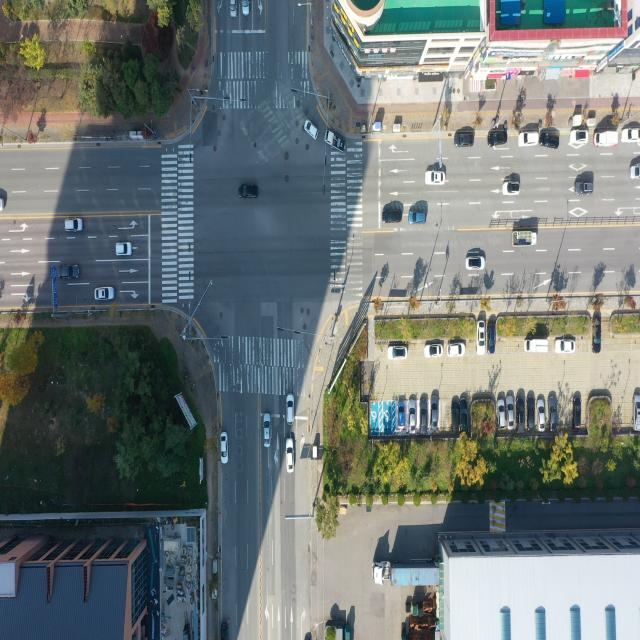car: (239, 182, 259, 200), (220, 431, 230, 466), (539, 130, 558, 148), (488, 131, 508, 148), (59, 266, 80, 282), (425, 170, 446, 186), (430, 396, 439, 433), (419, 397, 428, 434), (549, 397, 558, 432), (592, 314, 601, 349), (478, 320, 487, 354), (519, 132, 539, 147), (305, 121, 320, 141), (387, 346, 407, 361), (459, 400, 468, 433), (570, 130, 588, 146), (424, 344, 443, 359), (554, 340, 574, 354), (264, 414, 272, 448), (286, 439, 294, 473), (516, 398, 524, 432), (66, 217, 84, 232), (622, 129, 640, 144), (410, 211, 428, 226), (451, 400, 460, 430), (96, 287, 115, 301), (576, 180, 595, 194), (465, 256, 484, 270), (455, 134, 474, 148), (574, 395, 582, 428), (505, 396, 513, 428), (410, 402, 418, 434), (505, 180, 522, 195), (448, 343, 465, 358), (383, 210, 402, 223), (527, 395, 534, 430), (116, 242, 132, 257), (286, 394, 294, 424), (488, 326, 496, 356), (634, 395, 640, 433), (537, 398, 544, 430), (398, 401, 406, 427), (498, 400, 504, 430), (219, 622, 228, 640), (631, 165, 640, 180), (242, 0, 250, 16), (232, 0, 238, 17), (0, 197, 5, 212)
large_truck: (374, 561, 444, 588)
small_truck: (323, 128, 345, 149), (524, 339, 548, 355), (513, 232, 537, 248), (595, 132, 617, 148)
